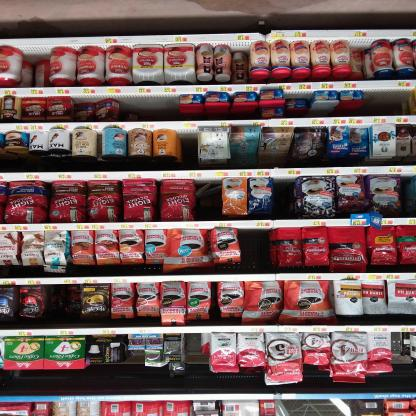empty_space: (239, 223, 273, 272), (364, 82, 411, 117), (134, 86, 176, 121), (273, 169, 297, 217), (181, 326, 201, 368), (180, 122, 197, 168)
